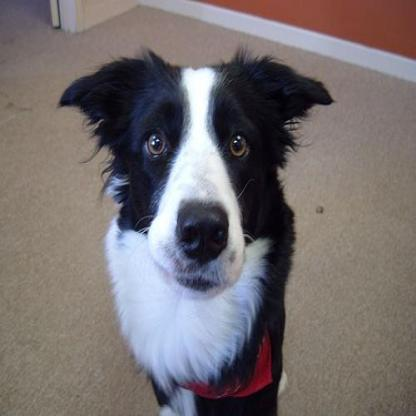collie: (53, 36, 335, 414)
